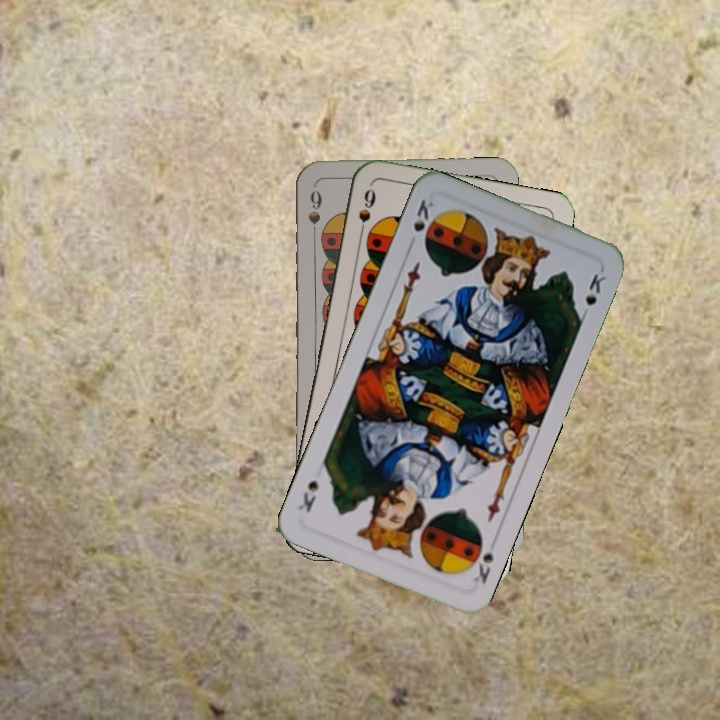S9: (354, 184, 379, 242), (304, 186, 324, 244)
SK: (409, 195, 438, 246), (469, 547, 497, 587)
